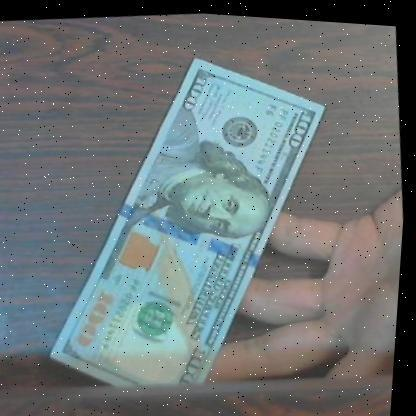one_hundred-front: (22, 30, 362, 416)
